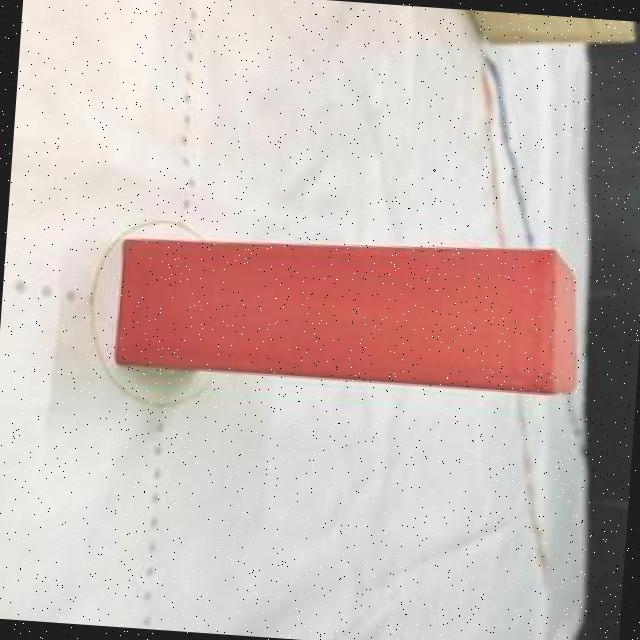redbox: (113, 218, 588, 400)
